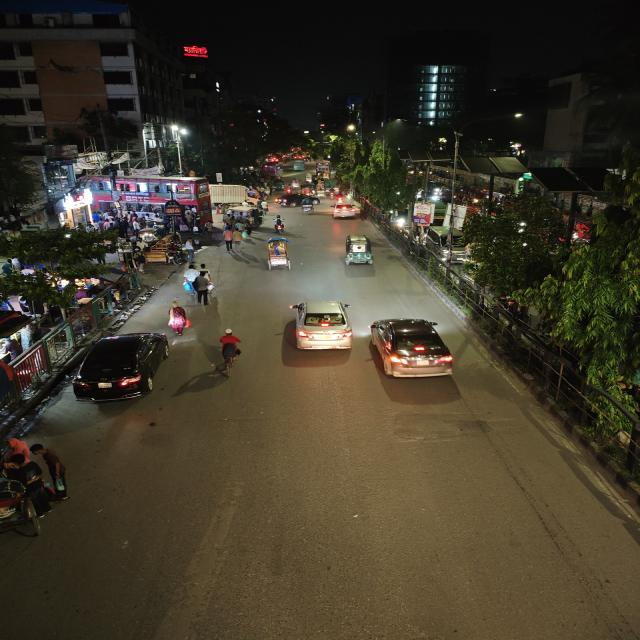bicycle: (218, 327, 250, 379)
bus: (120, 178, 213, 224), (260, 161, 280, 177), (314, 162, 332, 174), (292, 160, 306, 173)
car: (70, 328, 176, 405), (365, 314, 462, 385), (285, 298, 356, 356), (415, 226, 475, 266), (330, 201, 362, 220), (274, 195, 324, 204)
cng: (340, 233, 379, 271)
human_hauler: (232, 204, 264, 223)
motorcycle: (271, 214, 288, 233)
pedestrian: (165, 299, 192, 335), (191, 273, 216, 305), (222, 225, 239, 252)
rickshaw: (0, 432, 70, 547), (260, 236, 297, 274), (299, 200, 315, 216)
truck: (214, 185, 258, 204)
